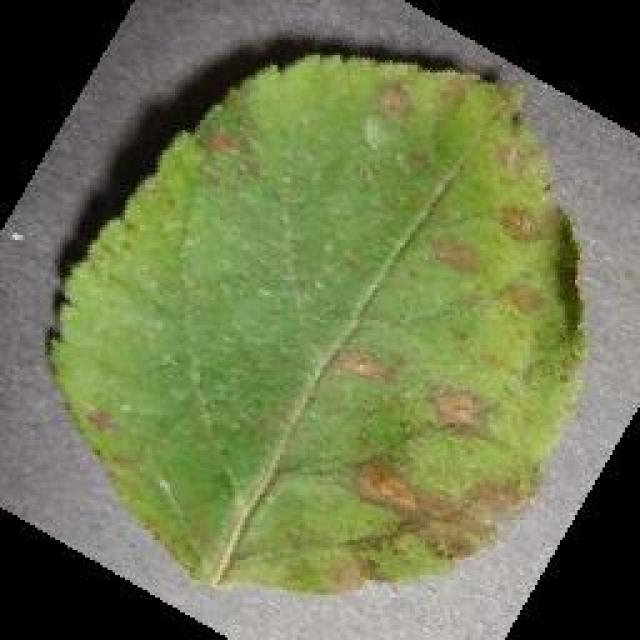apple rust disease: (42, 47, 588, 595)
